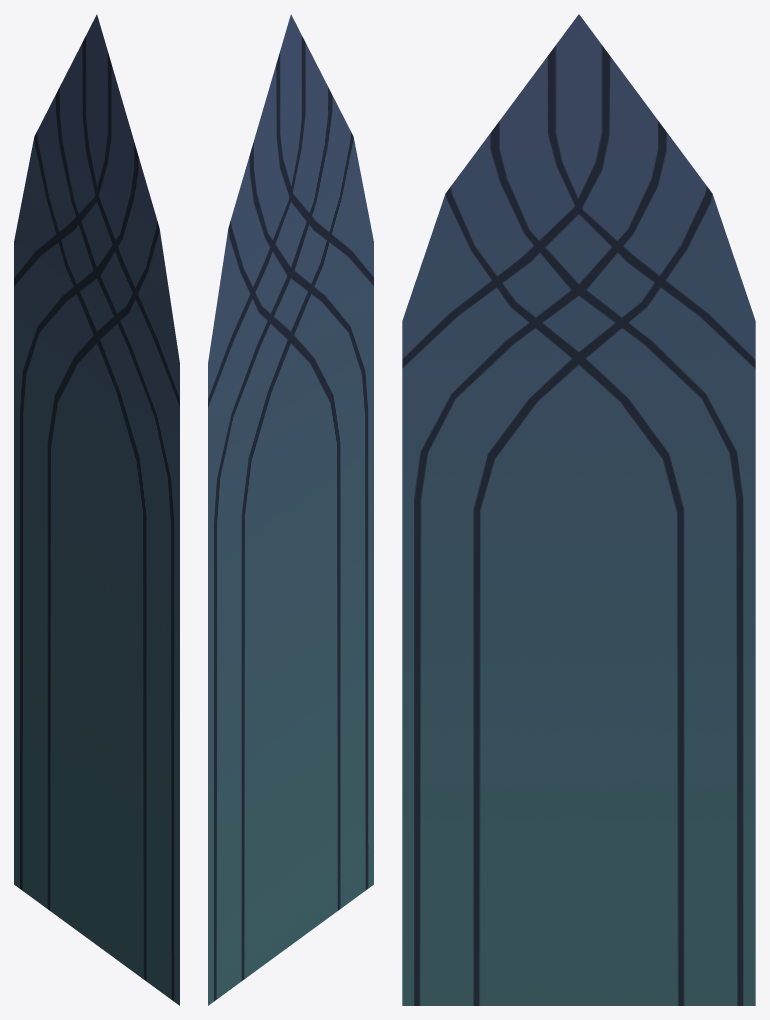
The model's file is SM_Bld_Window_Tall_01_Glass.fbx.
3 views of the same model, side by side, from view 1: azimuth 30°, elevation 25°; view 2: azimuth 150°, elevation 25°; view 3: azimuth 270°, elevation 25° (orthographic). The views are drawn at different scales.
Parts seen in each view (by area): view 1: SM_Bld_Window_Tall_01_Glass; view 2: SM_Bld_Window_Tall_01_Glass; view 3: SM_Bld_Window_Tall_01_Glass.
Boxes of the visible parts, x1=… form: SM_Bld_Window_Tall_01_Glass: x1=14, y1=14, x2=179, y2=1005; SM_Bld_Window_Tall_01_Glass: x1=208, y1=14, x2=373, y2=1005; SM_Bld_Window_Tall_01_Glass: x1=402, y1=14, x2=755, y2=1005.
Size of the model in its own units: 7.16e-06 by 163 by 506.
Materials: 1 (1 with a texture image).
